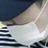mask_weared_incorrect: (2, 2, 48, 48)
